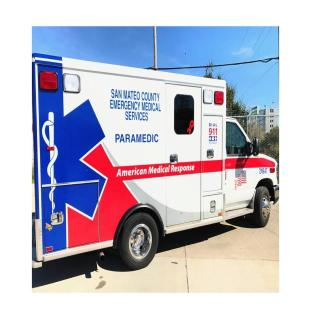Ambulance: (32, 43, 278, 307)
